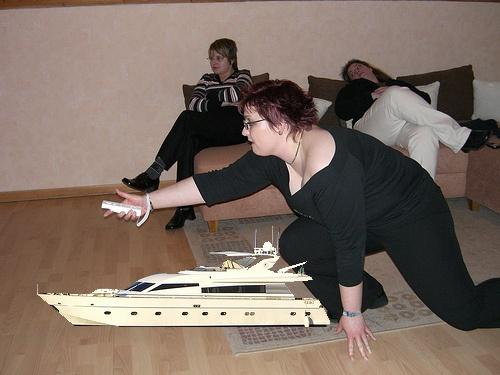tampered: (38, 227, 330, 327)
